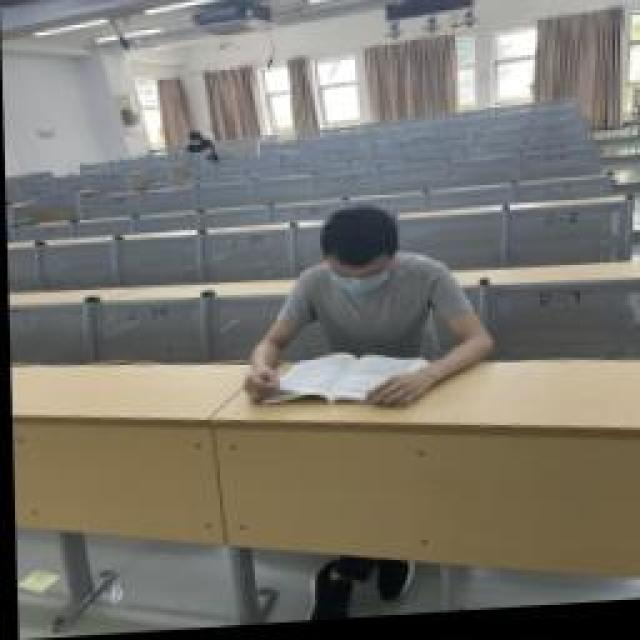study: (238, 208, 492, 420), (180, 132, 212, 160)
